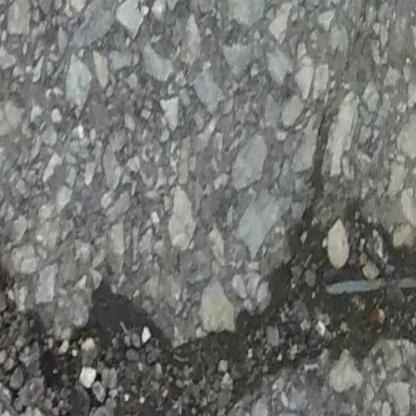Cracks: (0, 192, 416, 416)
